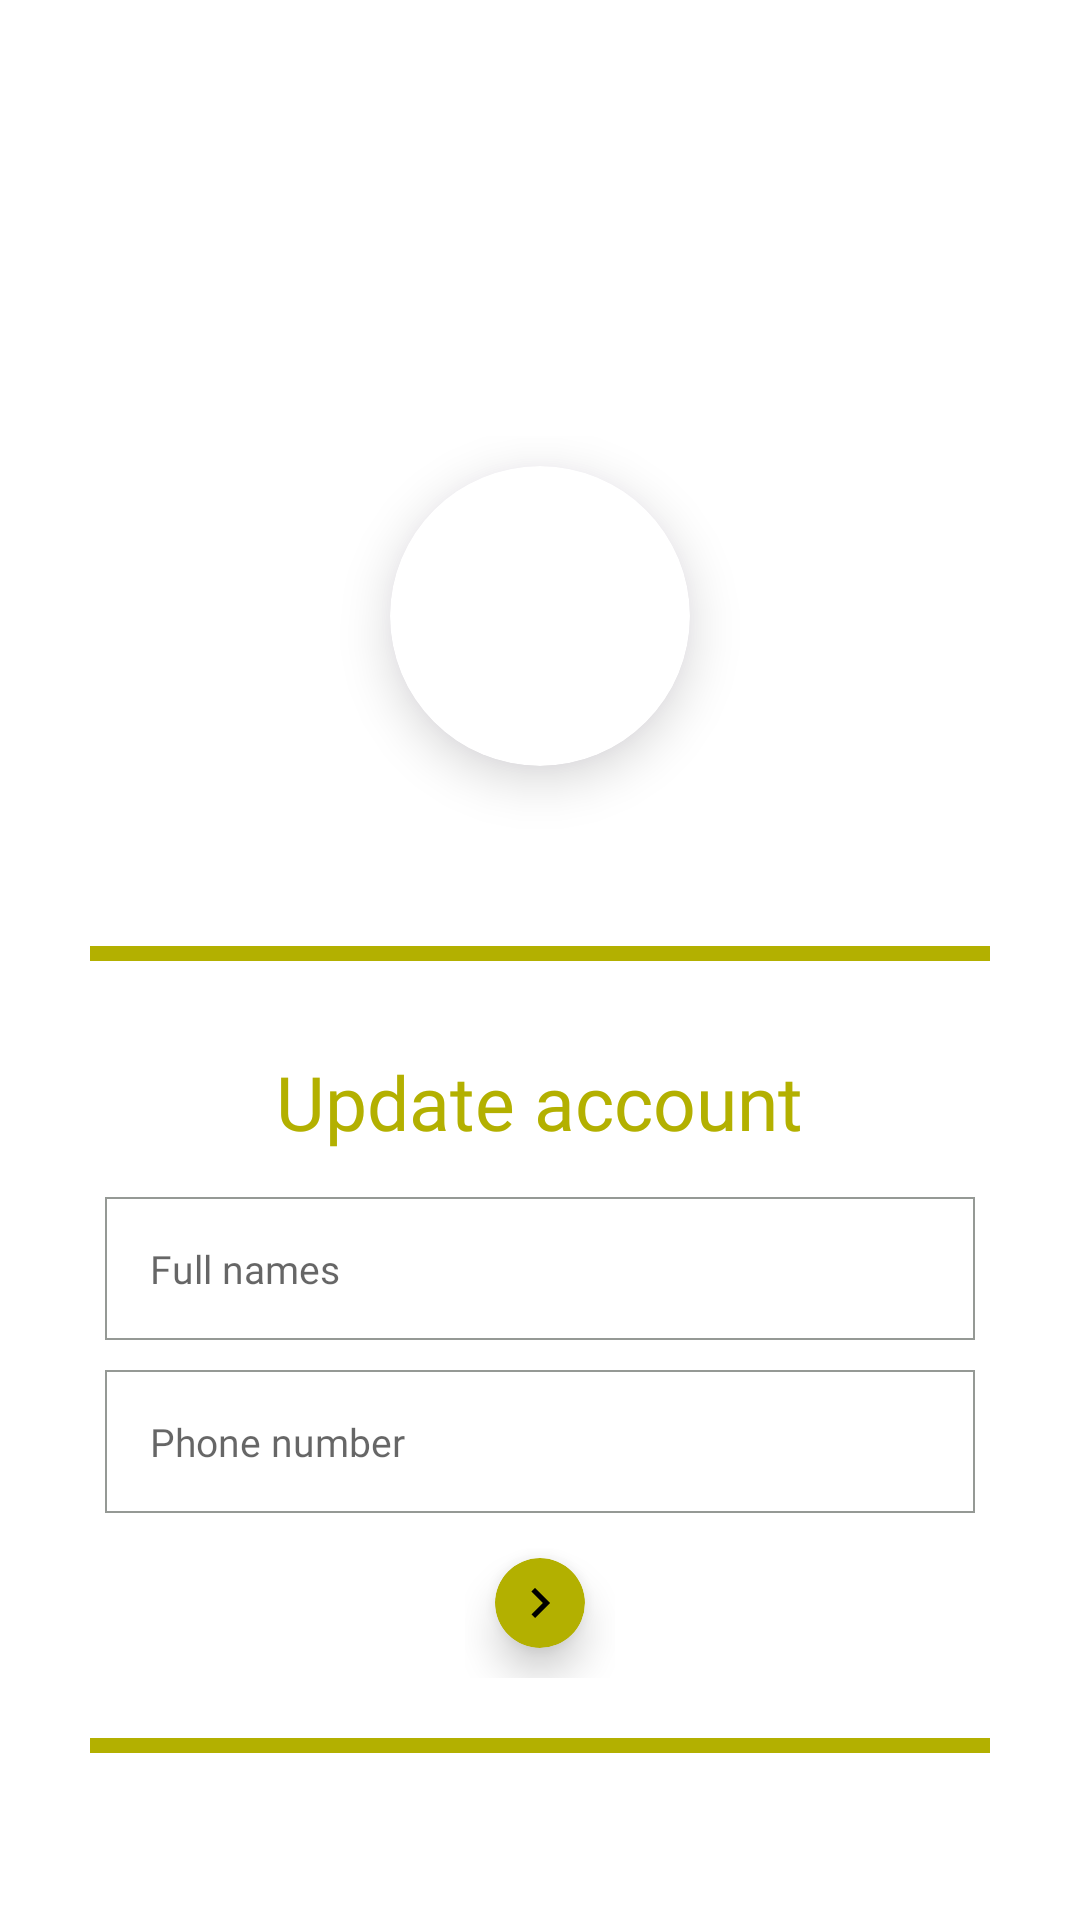

Where to tap for icons on this 1080 x 1920 app screen, as [x,y]:
navigate next: [540,1603]
